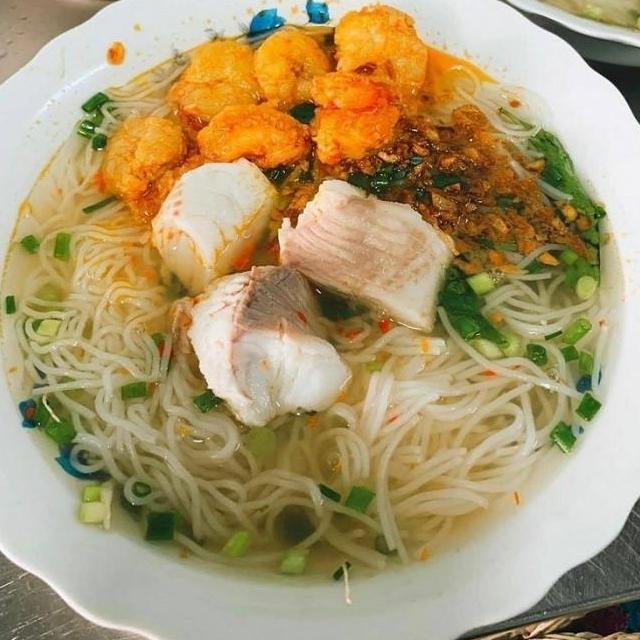bun: (348, 237, 610, 580), (72, 422, 562, 576), (4, 185, 190, 484), (416, 58, 578, 208)
bun ca: (11, 28, 638, 614)
ca: (176, 256, 358, 434), (270, 172, 462, 338), (138, 150, 282, 304)
tom: (163, 34, 274, 152), (318, 0, 432, 111), (303, 64, 407, 170), (92, 114, 200, 214), (188, 99, 316, 180), (245, 21, 342, 114)
